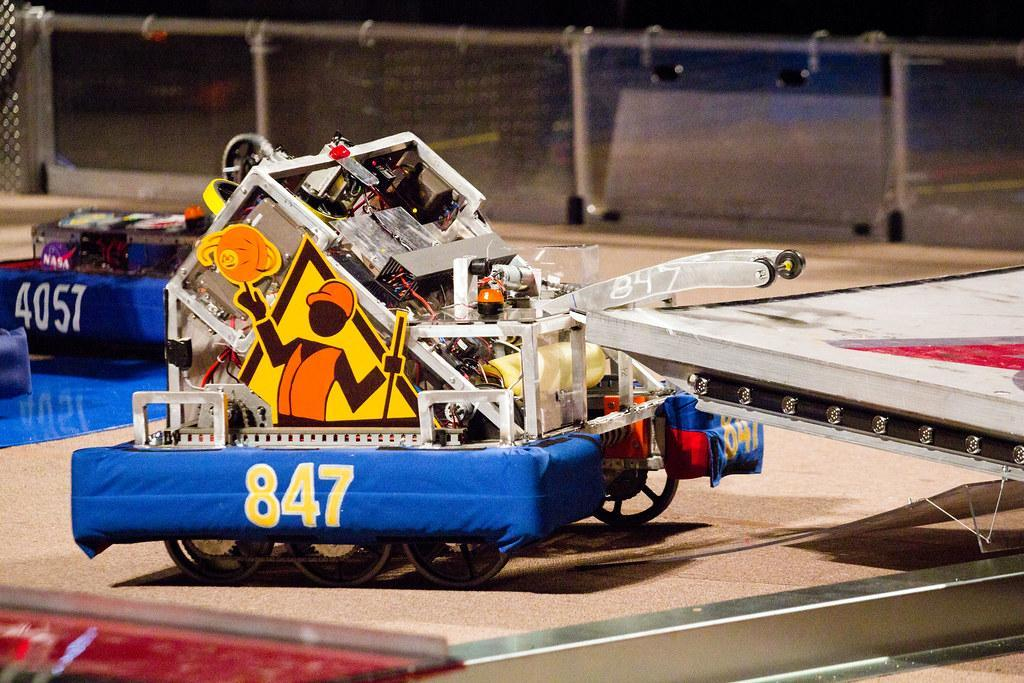robot: (66, 122, 816, 587), (2, 157, 366, 359)
